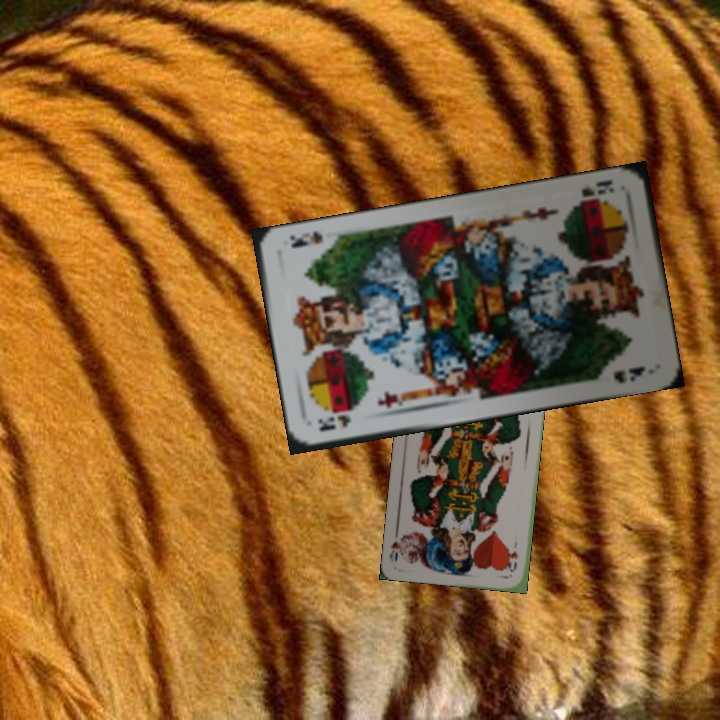HO: (505, 537, 521, 575)
SK: (566, 175, 618, 208), (313, 411, 353, 434)
